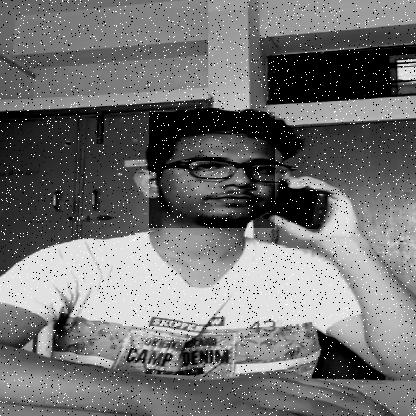Normal: (149, 112, 275, 228)
